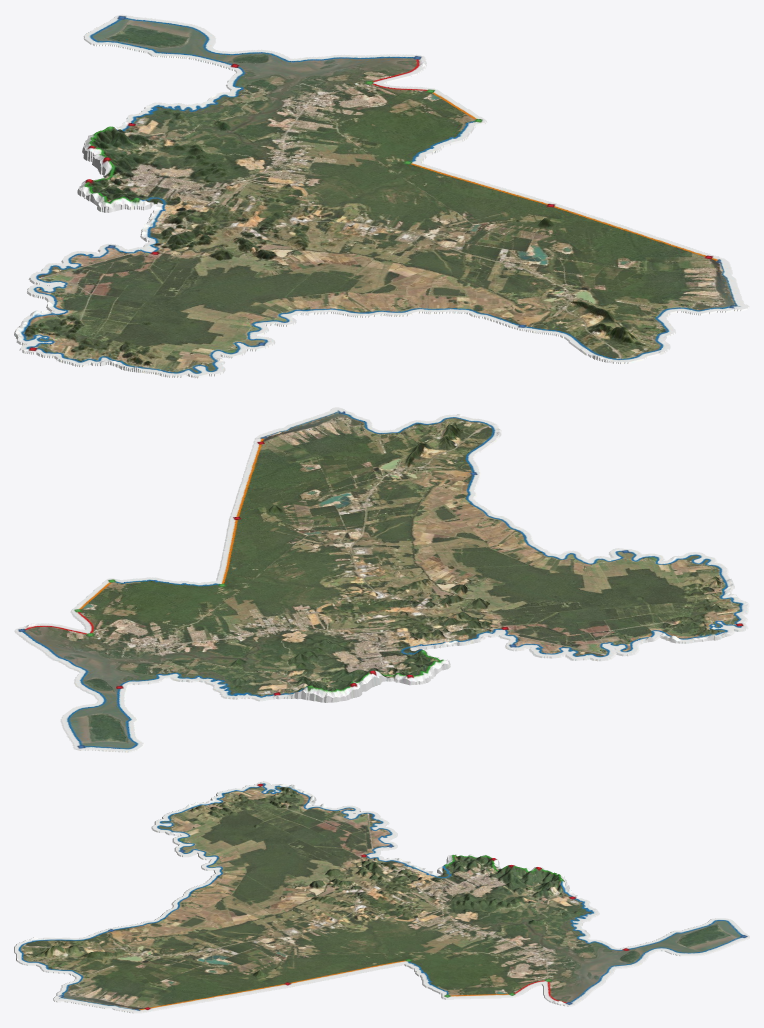
3 renders of one model, top to bottom at view 1: azimuth 30°, elevation 25°; view 2: azimuth 150°, elevation 25°; view 3: azimuth 270°, elevation 25°, orthographic. The views are drawn at different scales.
Size of the model in its own units: 0.9997 by 0.0204 by 1.35.
Materials: 1 (1 with a texture image).
